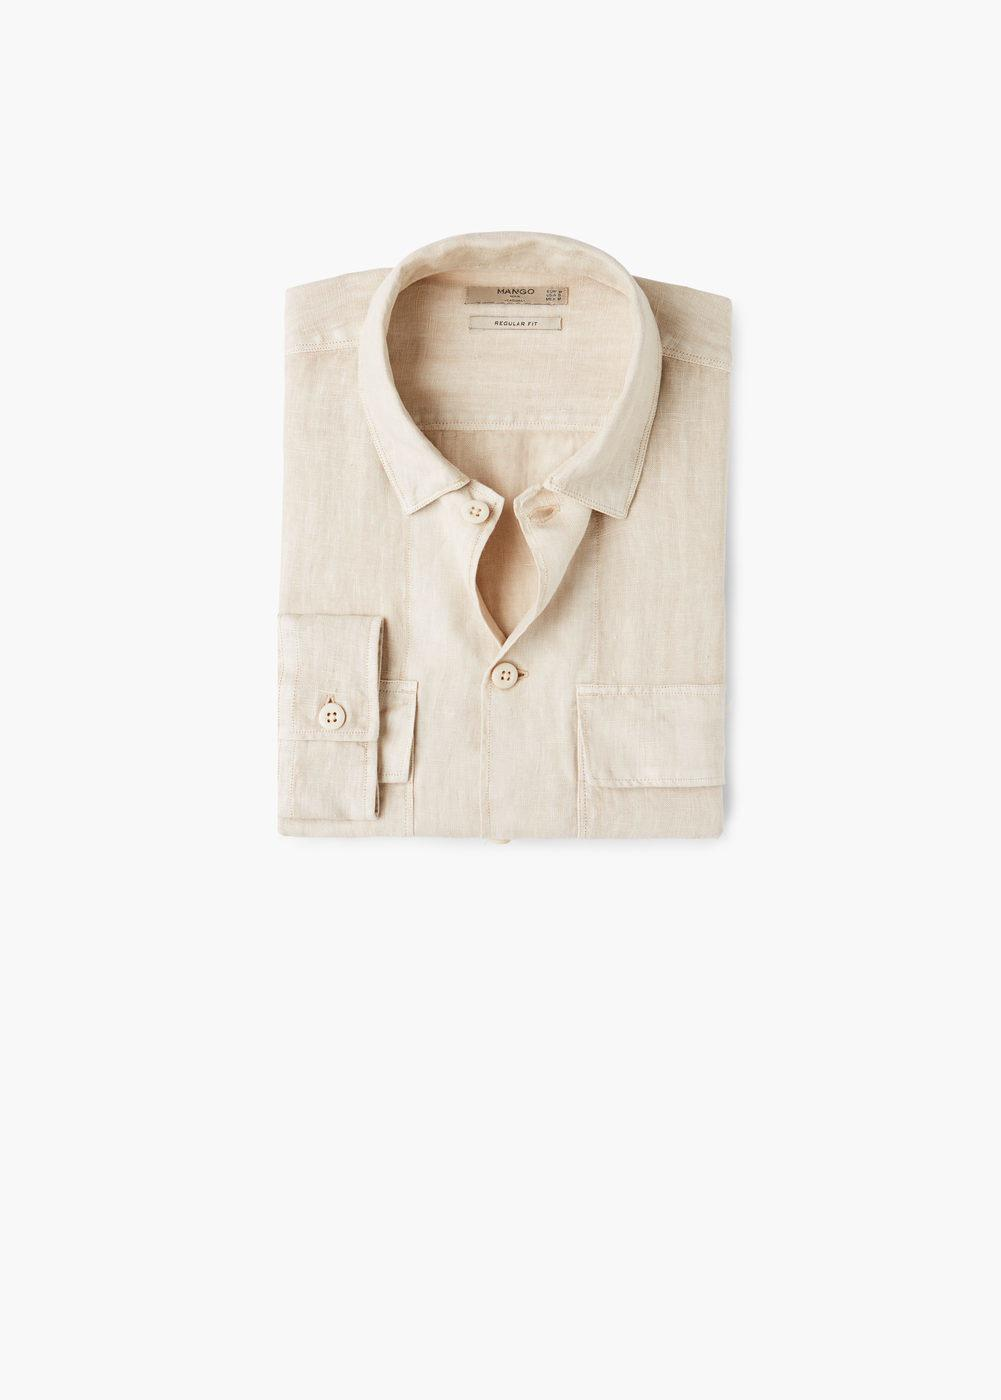teeshirt: (272, 244, 744, 859)
